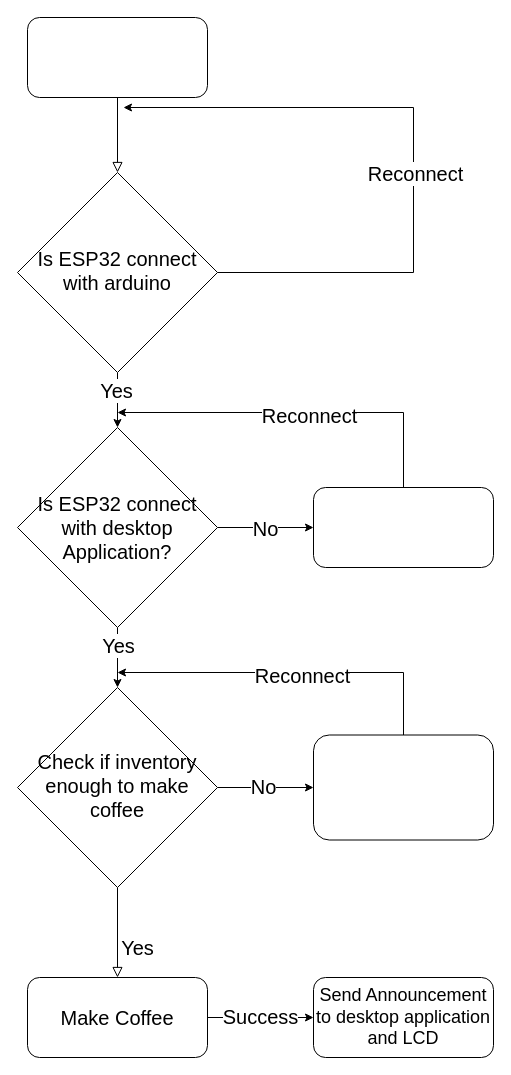
This 511x1075 diagram has some shape labels left out. The shapes that lost their labels are listed below. From the top down, each one's centre as x and y in pixels, then its label:
pixel 117 57: Start
pixel 403 527: Send Warning Announcement to LCD
pixel 403 787: Send Warning Announcement to desktop application and LCD
